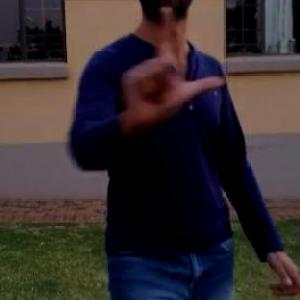land_hand: (115, 0, 230, 126)
